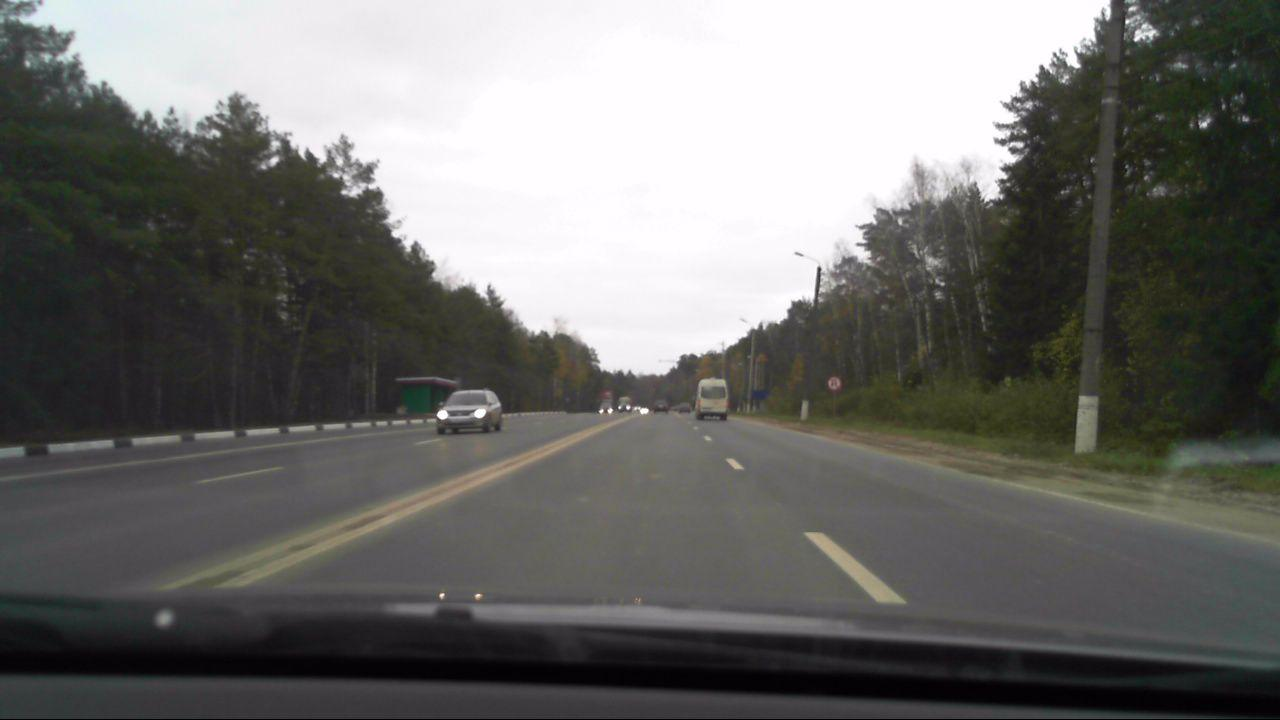3_19: (825, 376, 842, 393)
